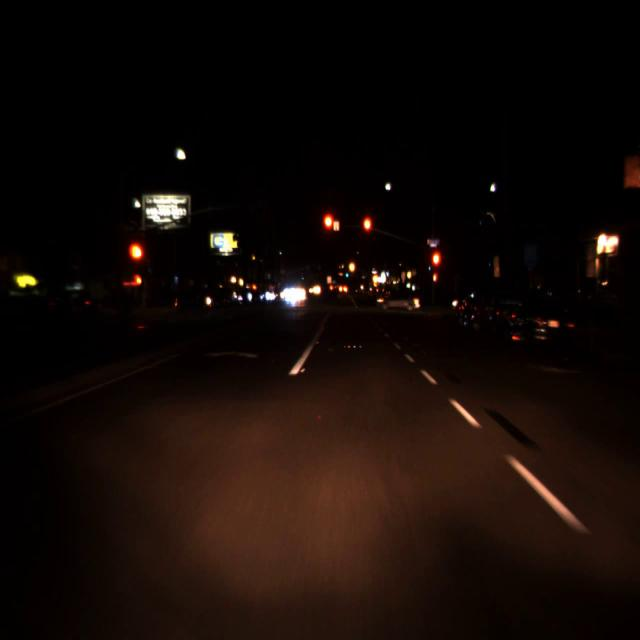go: (345, 270, 349, 278)
go traffic light: (345, 270, 349, 278)
stop: (126, 240, 146, 283), (322, 211, 336, 248), (430, 248, 442, 284), (362, 214, 374, 248)
stop traffic light: (126, 240, 146, 283), (322, 211, 336, 248), (430, 248, 442, 284), (362, 214, 374, 248)
warning: (371, 267, 379, 289), (348, 256, 356, 276)
warning traffic light: (371, 267, 379, 289), (348, 256, 356, 276)
